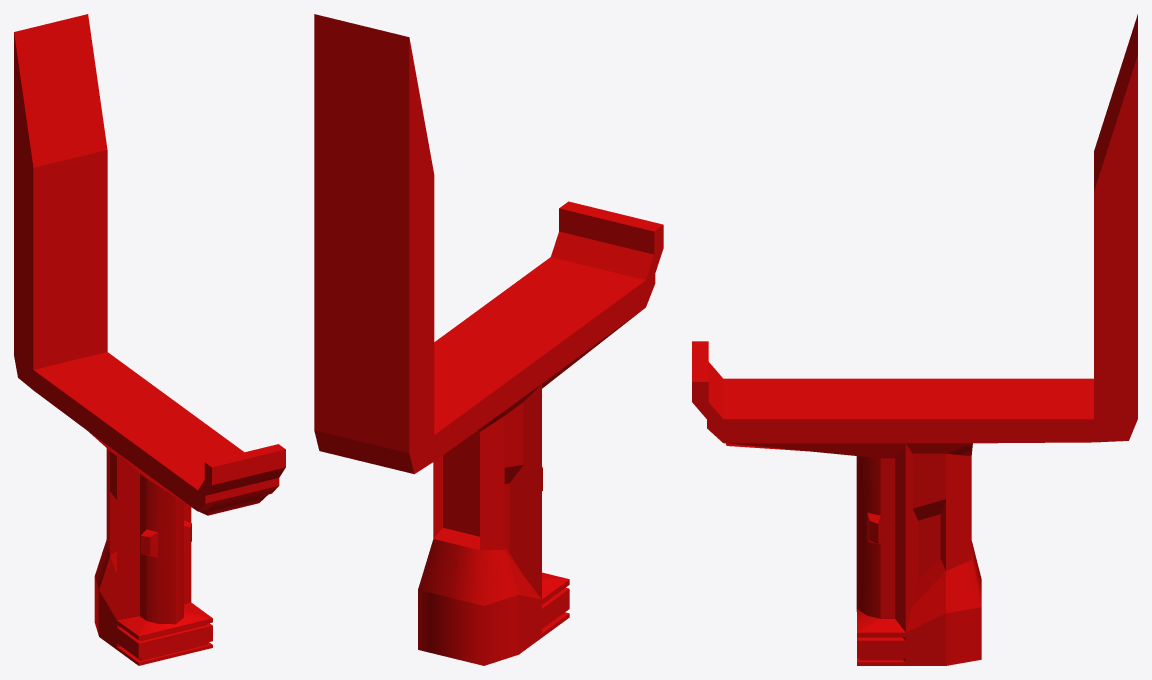
Rendered from Mdl_Vagon_pilar_soporte.fbx.
3 views of the same model, side by side, from view 1: azimuth 30°, elevation 25°; view 2: azimuth 150°, elevation 25°; view 3: azimuth 270°, elevation 25° (orthographic). The views are drawn at different scales.
Visible parts, largest first — view 1: Mdl_Vagon_pilar_soporte; view 2: Mdl_Vagon_pilar_soporte; view 3: Mdl_Vagon_pilar_soporte.
Part boxes in pixels (x1,y1,x2,y2): Mdl_Vagon_pilar_soporte: (14,14,285,665); Mdl_Vagon_pilar_soporte: (314,14,663,665); Mdl_Vagon_pilar_soporte: (692,14,1137,665).
Bounding box in the file's own units: 3.16 × 22.14 × 14.63.
